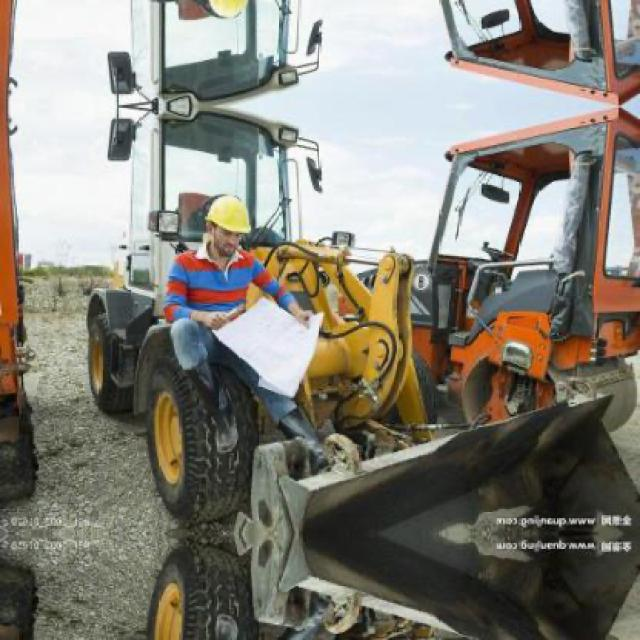con casco: (189, 186, 275, 274)
